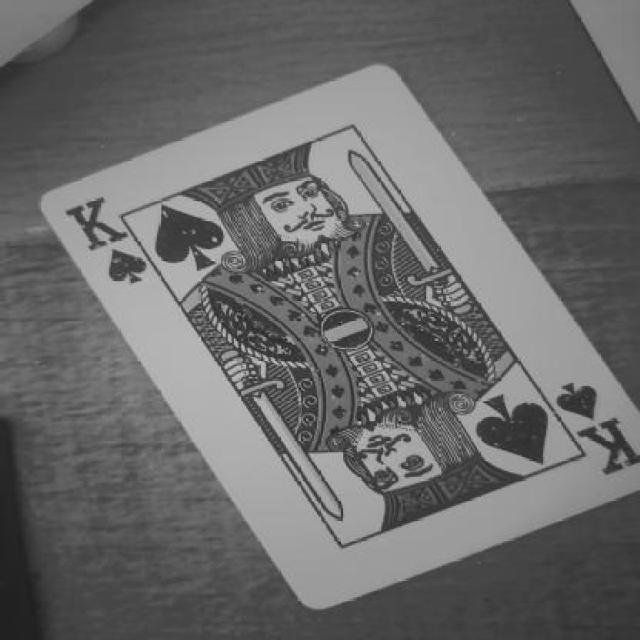KS: (544, 376, 640, 480), (63, 182, 148, 298)
